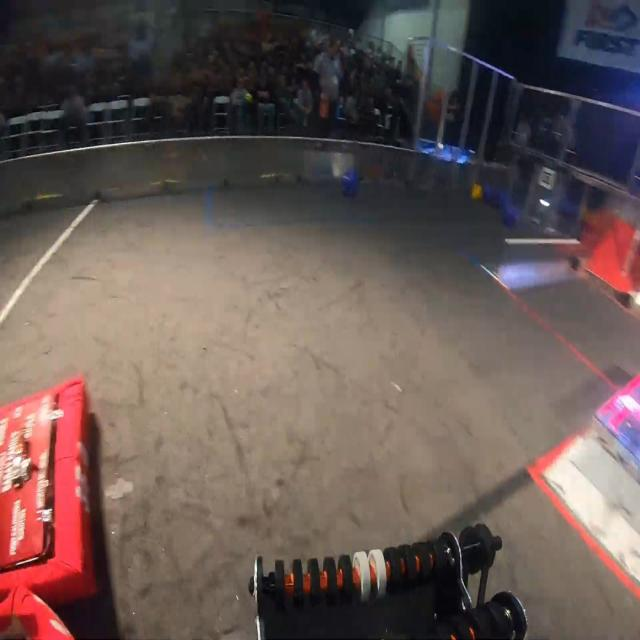robot: (0, 370, 93, 605), (0, 585, 79, 640)
